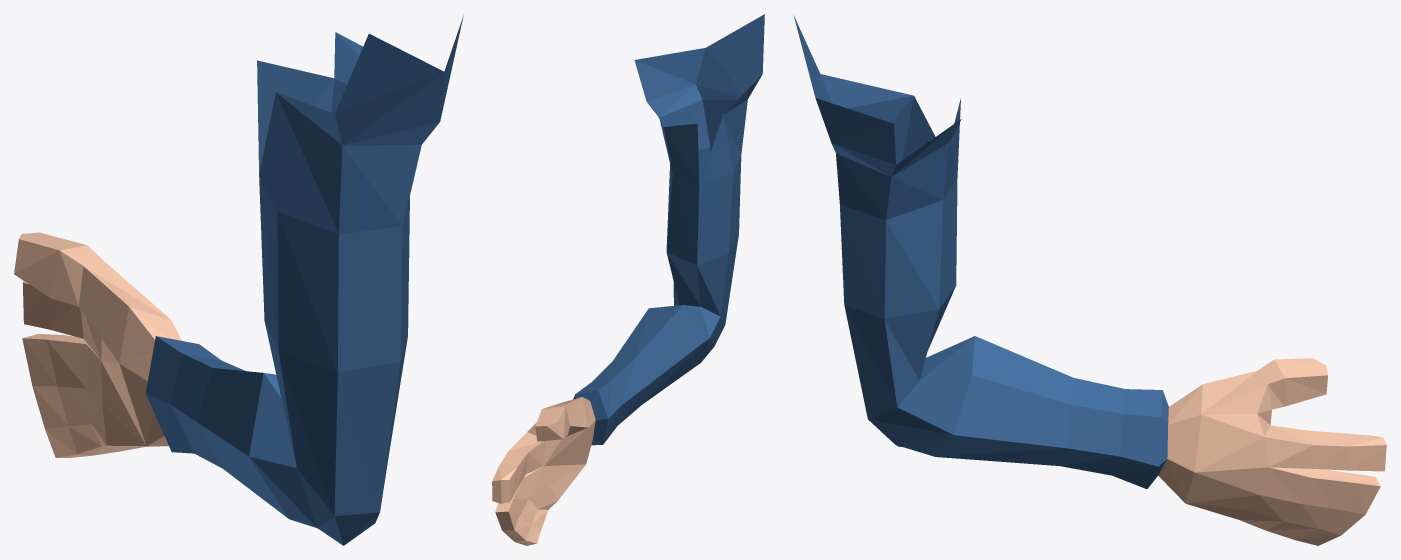
File: Son_01_ArmR_78_02_A.obj
The picture shows the model from 3 angles, left to right: view 1: azimuth 30°, elevation 25°; view 2: azimuth 150°, elevation 25°; view 3: azimuth 270°, elevation 25°; orthographic projection. The views are drawn at different scales.
Parts seen in each view (by area): view 1: Son_01_ArmR_78_02_A; view 2: Son_01_ArmR_78_02_A; view 3: Son_01_ArmR_78_02_A.
Part boxes in pixels (x1,y1,x2,y2): Son_01_ArmR_78_02_A: [14, 15, 463, 545]; Son_01_ArmR_78_02_A: [492, 14, 764, 545]; Son_01_ArmR_78_02_A: [793, 15, 1386, 545].
Size of the model in its own units: 0.1573 by 0.5829 by 0.6156.
1 material, 1 textured.
